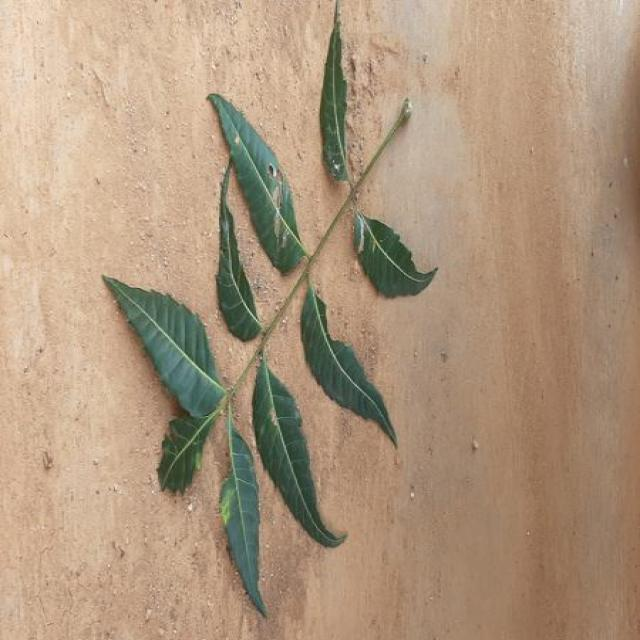neem: (208, 94, 397, 546), (104, 276, 265, 612), (320, 1, 435, 296)
